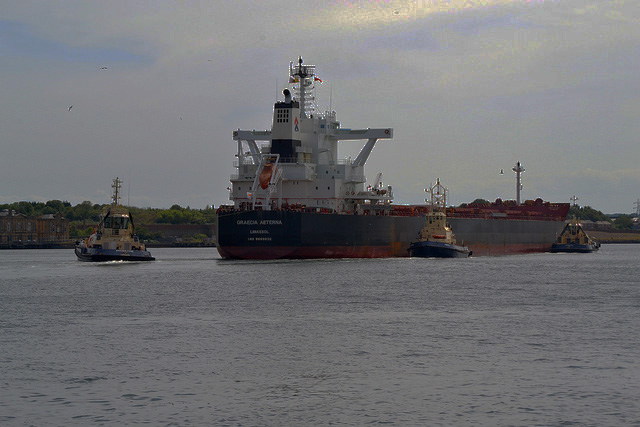bulk carrier: (217, 56, 573, 257)
tug_boat: (73, 178, 153, 262), (413, 177, 475, 260), (554, 210, 600, 260)
